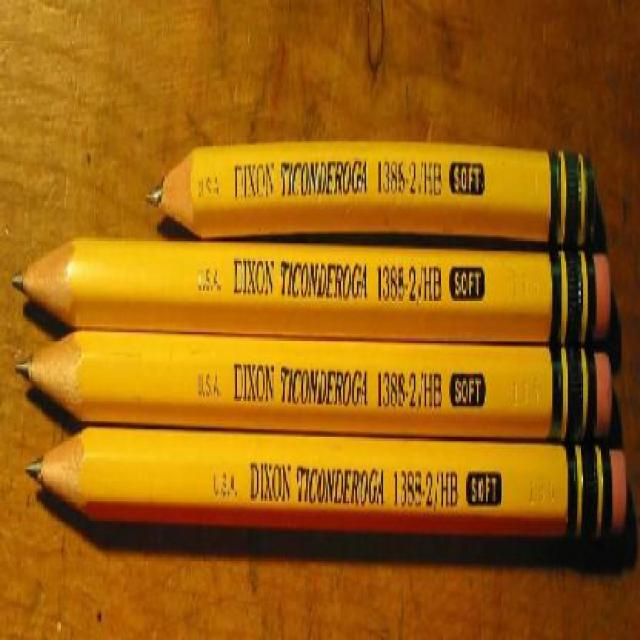pencil: (21, 423, 632, 559), (13, 322, 615, 441), (10, 236, 612, 342), (145, 138, 597, 251)
